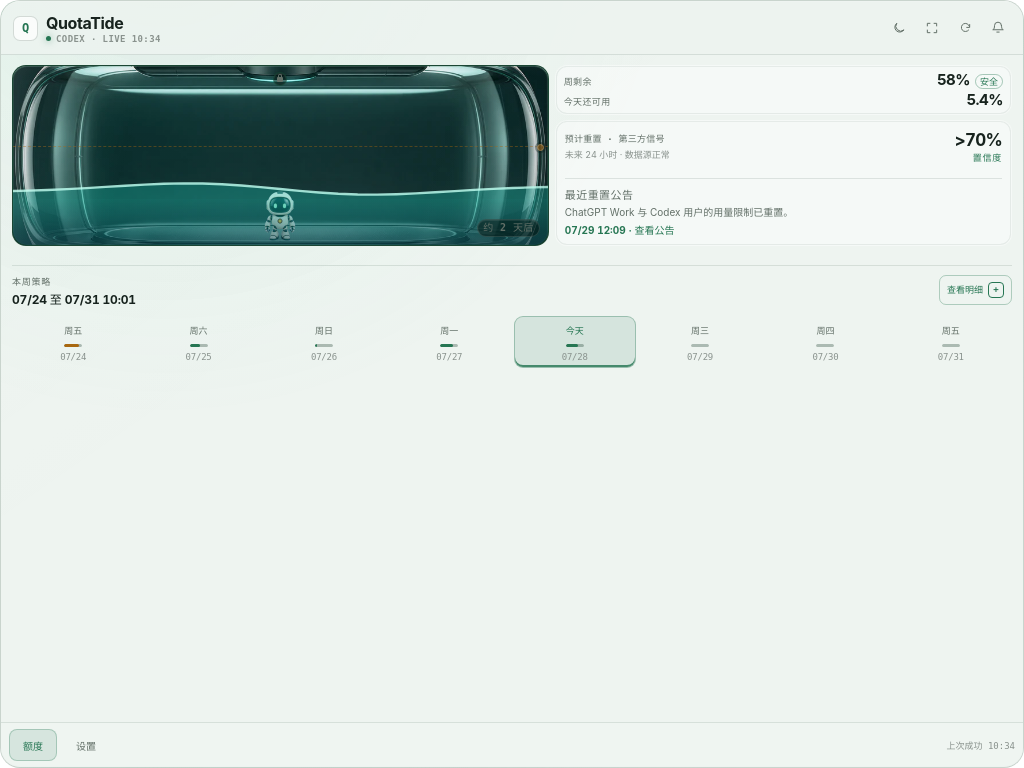
Test: tray-window navigation › opens settings and returns to the weekly ledger
Click the button "设置" at (86, 745), box 62,729 -> 110,761
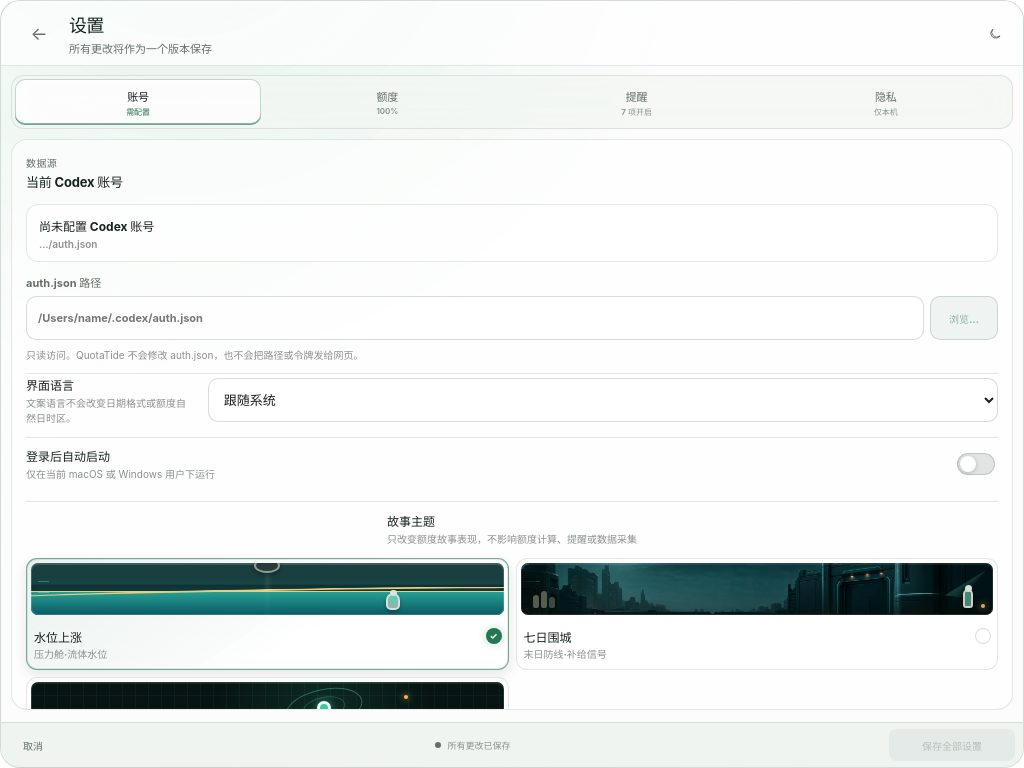
Expected: the heading "设置" is shown, 69,15 -> 104,36
Expected: the text "尚未配置 Codex 账号" is shown, 39,218 -> 154,234
Expected: the field labelled "auth.json 路径" is shown, 26,296 -> 924,340
Click the button "取消" at (33, 745), box 9,729 -> 57,761
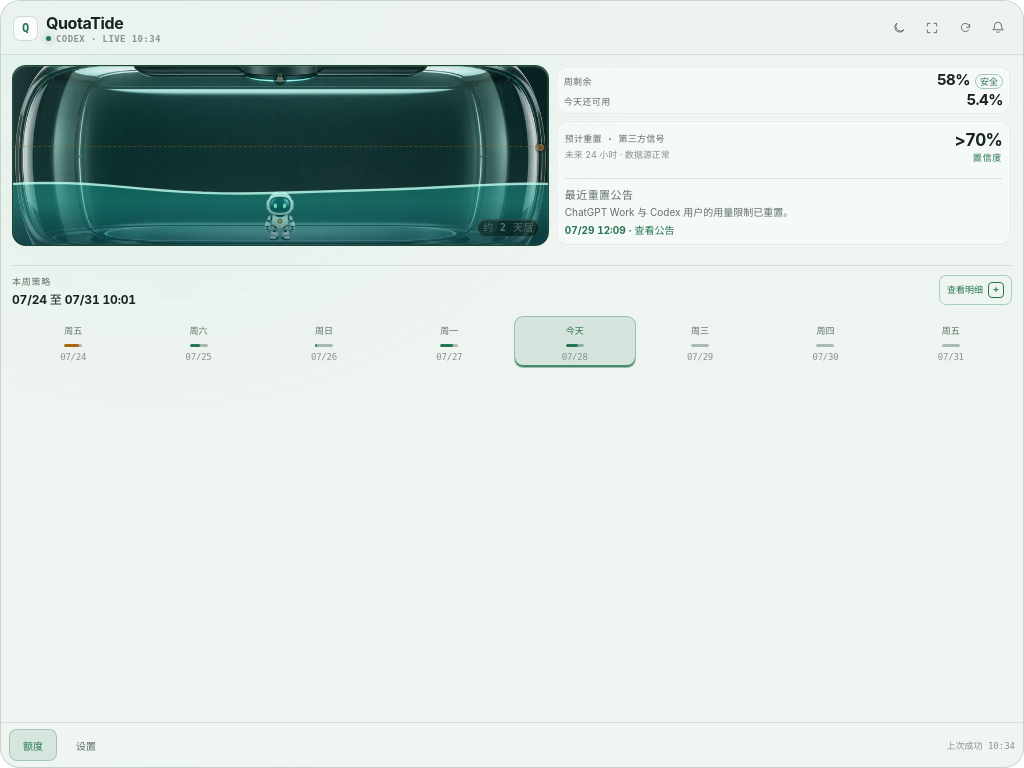
Expected: the list named "本周策略" is shown, 12,312 -> 1012,374
